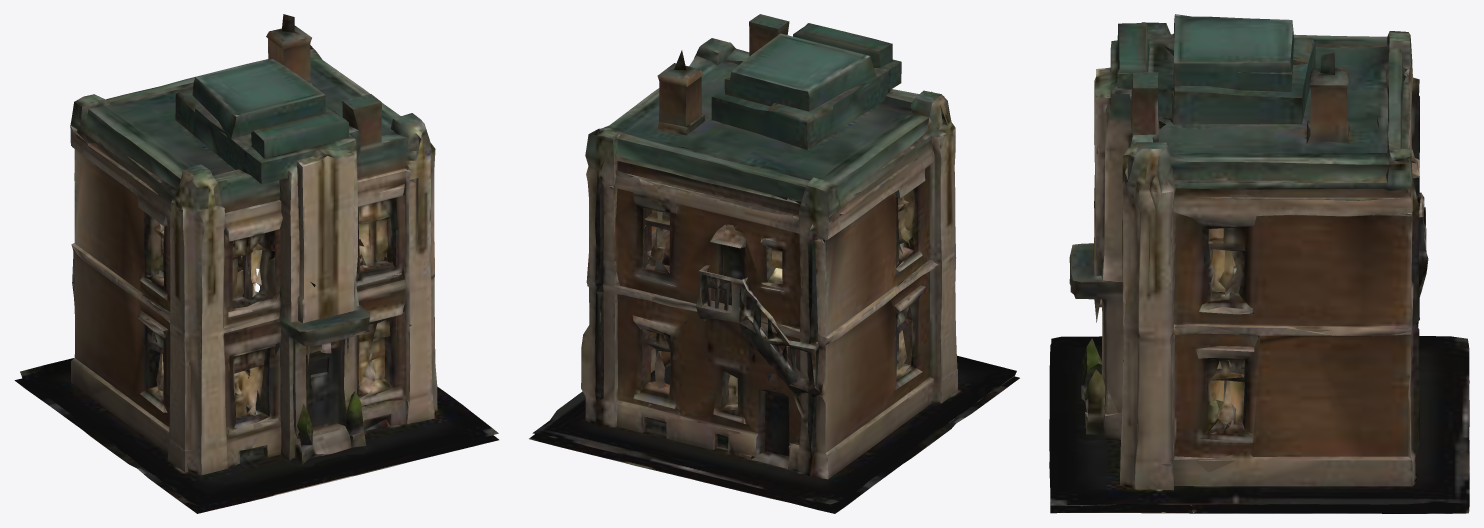
3 renders of one model, left to right at view 1: azimuth 30°, elevation 25°; view 2: azimuth 150°, elevation 25°; view 3: azimuth 270°, elevation 25°, orthographic. The views are drawn at different scales.
Visible parts, largest first — view 1: expansion__tower_2__neural_lod; view 2: expansion__tower_2__neural_lod; view 3: expansion__tower_2__neural_lod.
Part boxes in pixels (box(x1,y1,x2,y2)): expansion__tower_2__neural_lod: box(14, 14, 498, 513); expansion__tower_2__neural_lod: box(529, 14, 1019, 513); expansion__tower_2__neural_lod: box(1049, 14, 1469, 513).
Size of the model in its own units: 0.8843 by 0.9992 by 0.9284.
1 material, 1 textured.
